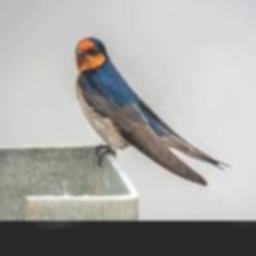Swallow: (75, 37, 231, 186)
